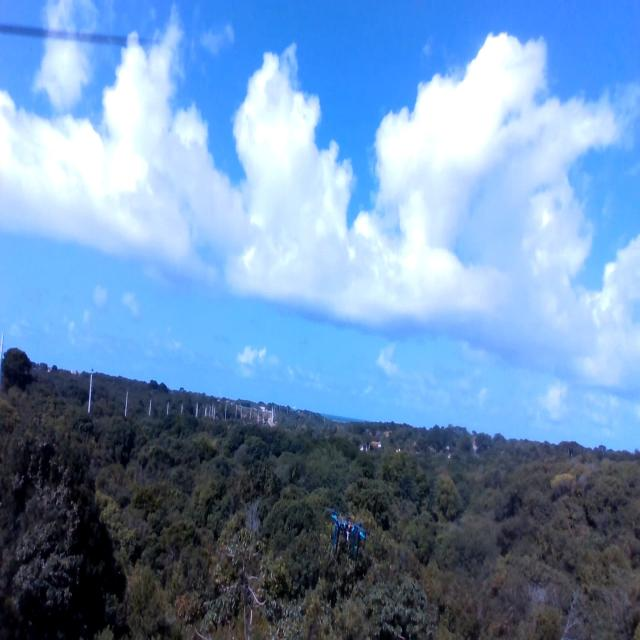-uav-: (323, 494, 371, 572)
